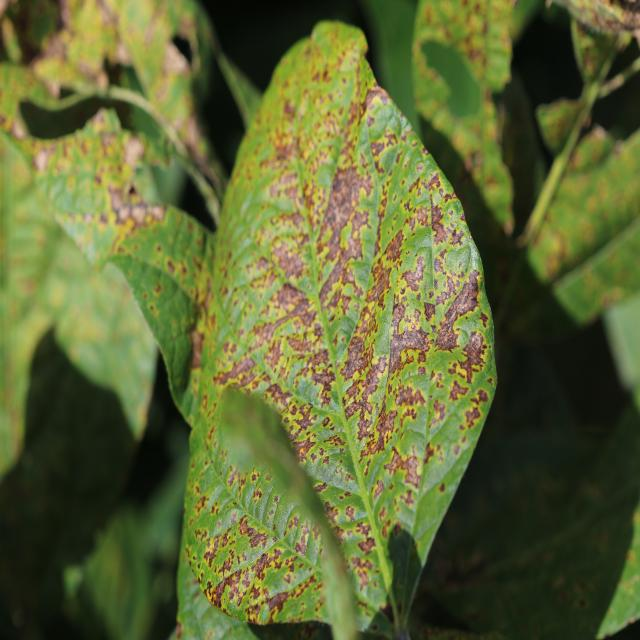Bacterial_Blight: (374, 392, 435, 557), (222, 313, 303, 399), (418, 397, 484, 499), (383, 143, 436, 268), (195, 522, 278, 595), (386, 227, 436, 344), (242, 209, 308, 288), (266, 81, 307, 206), (337, 297, 394, 383), (191, 492, 246, 553), (413, 469, 458, 541), (256, 555, 316, 606), (366, 97, 408, 161), (303, 444, 354, 495), (388, 426, 429, 483), (427, 349, 469, 386), (250, 478, 275, 528), (443, 242, 473, 283), (454, 307, 485, 346), (274, 501, 298, 544), (295, 378, 326, 408), (314, 160, 337, 196), (349, 259, 372, 294), (339, 220, 356, 251)
Soybean: (185, 22, 496, 637)
